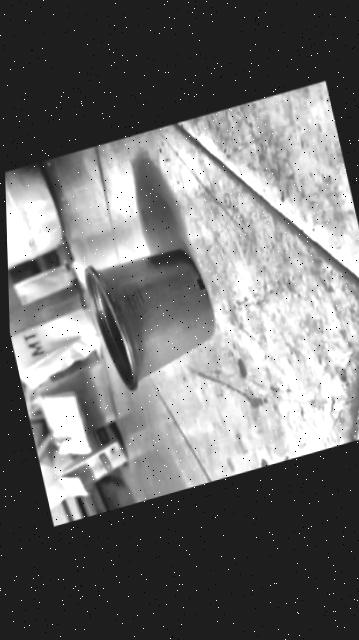pot: (81, 235, 222, 398)
